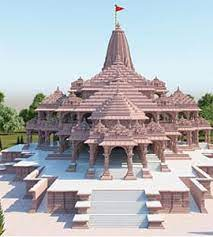Temple: (15, 4, 209, 207)
